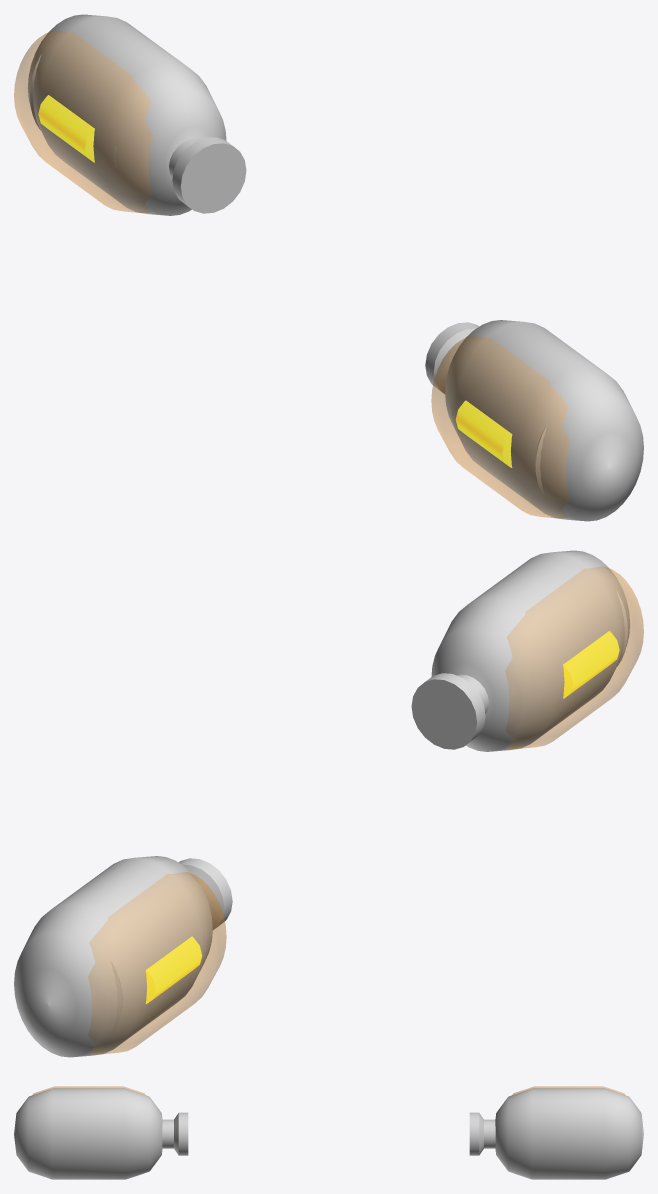
Rendered from chrome_short.glb.
3 views of the same model, one above another, from view 1: azimuth 30°, elevation 25°; view 2: azimuth 150°, elevation 25°; view 3: azimuth 270°, elevation 25° (orthographic). The views are drawn at different scales.
Visible parts, largest first — view 1: indicators_rear_chrome_short; view 2: indicators_rear_chrome_short; view 3: indicators_rear_chrome_short.
Part boxes in pixels (x1,y1,x2,y2): indicators_rear_chrome_short: (14, 14, 643, 521); indicators_rear_chrome_short: (14, 550, 643, 1057); indicators_rear_chrome_short: (14, 1086, 643, 1179).
Size of the model in its own units: 0.0356 by 0.039 by 0.26.
